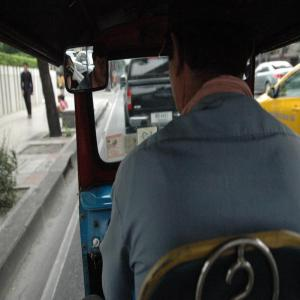Vehicle-registration-plate: (151, 114, 177, 124)
